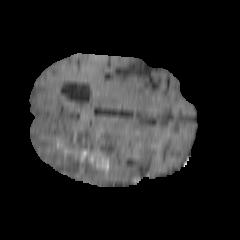glioma: (52, 110, 133, 184)
